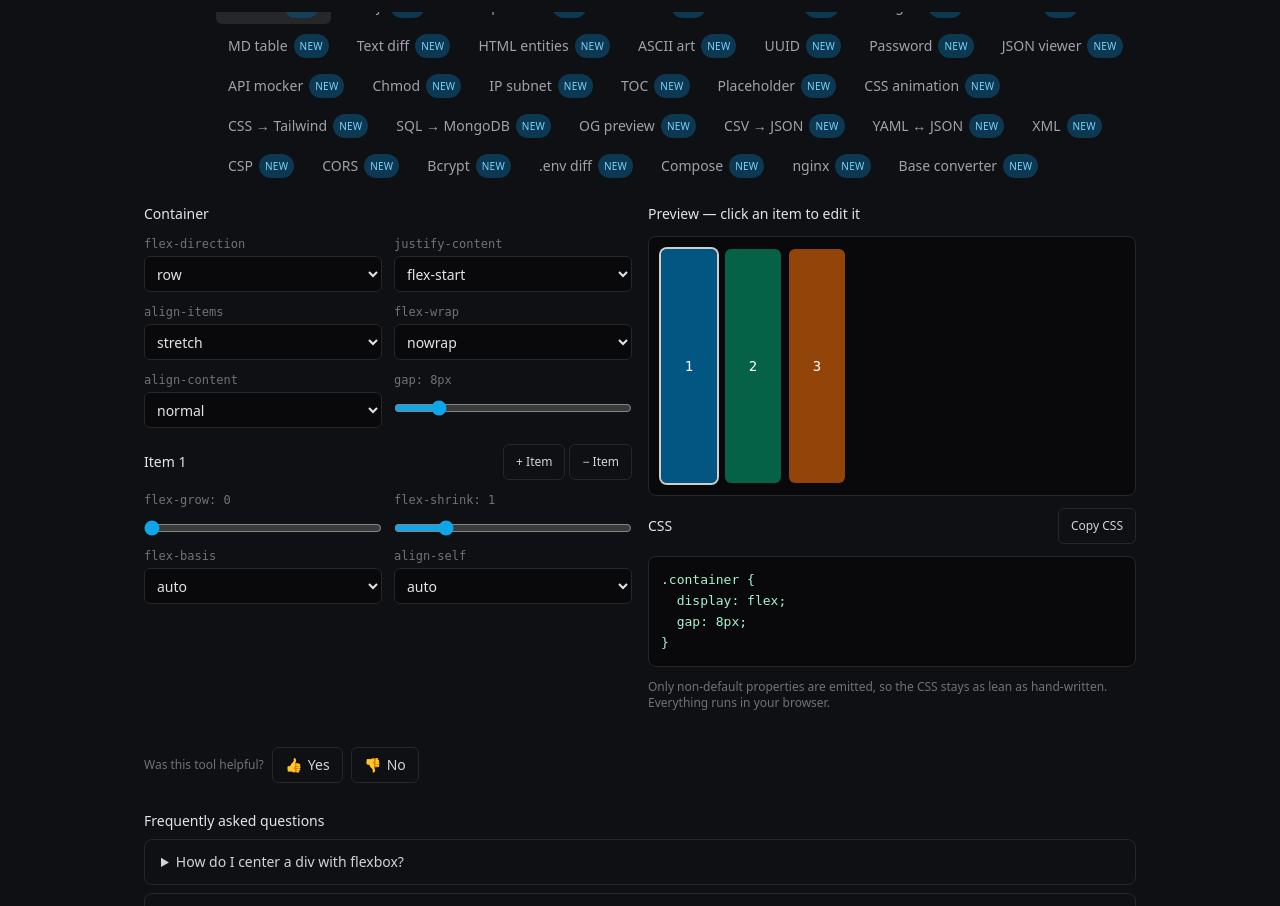
FlexboxPage › adds and removes items within bounds
(page scrolled)
Click the button with test id "flex-add-item". click: x=534, y=462
box: top-left (503, 444), bottom-right (566, 480)
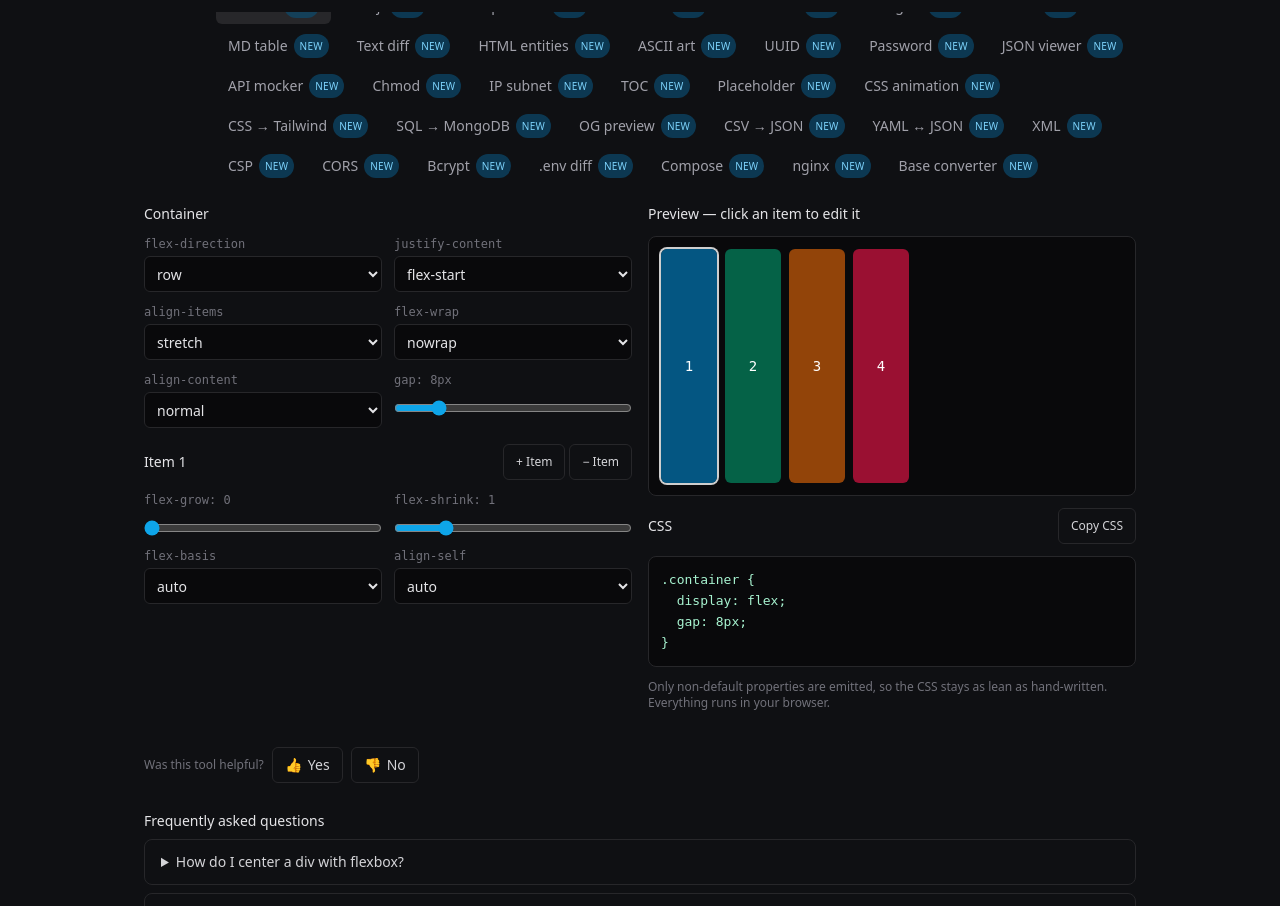
Check: the button with test id "flex-item-3" is shown, box top-left (853, 249), bottom-right (909, 483)
Click the button with test id "flex-remove-item". click: x=601, y=462
box: top-left (570, 444), bottom-right (632, 480)
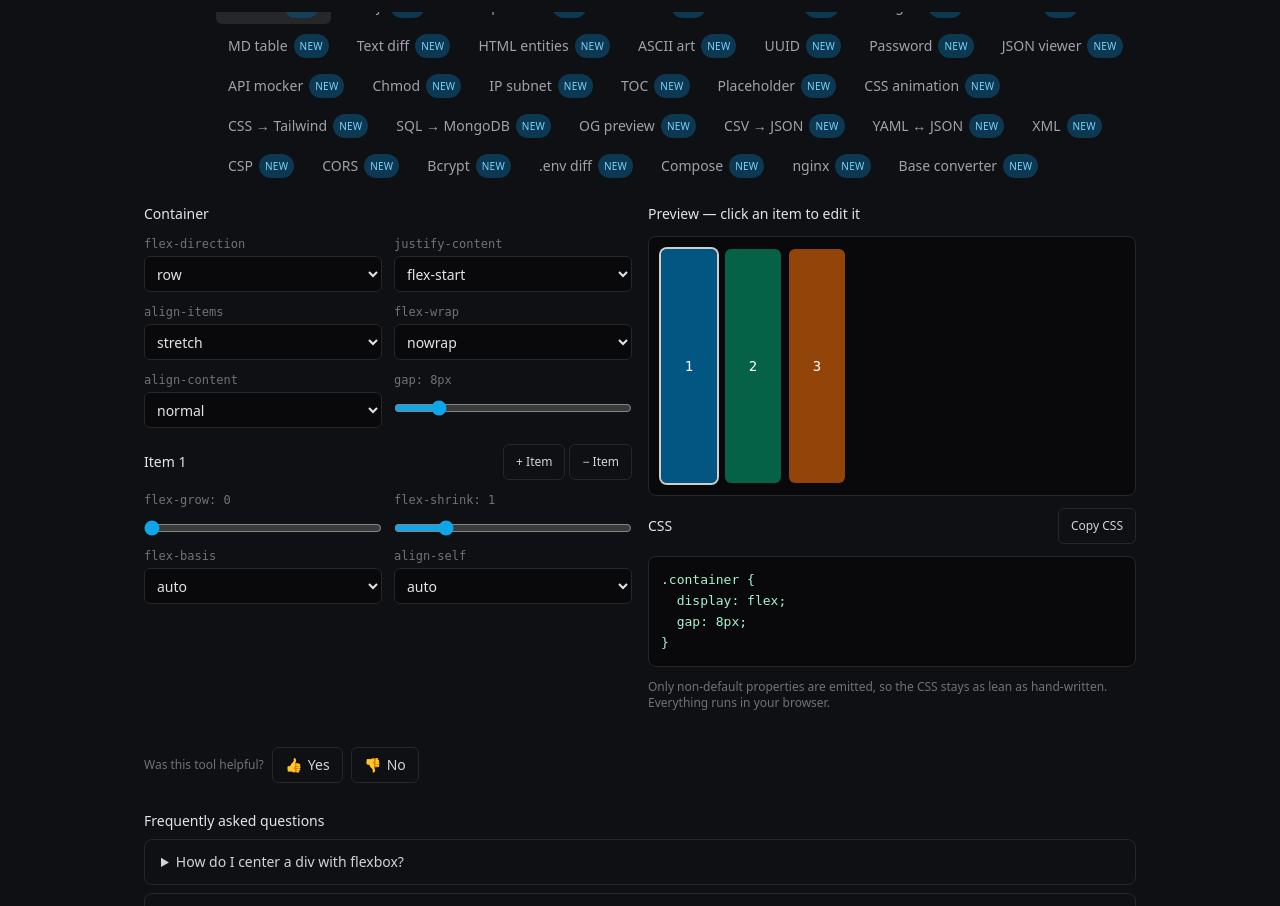
Click the button with test id "flex-remove-item". click: x=601, y=462
box: top-left (570, 444), bottom-right (632, 480)
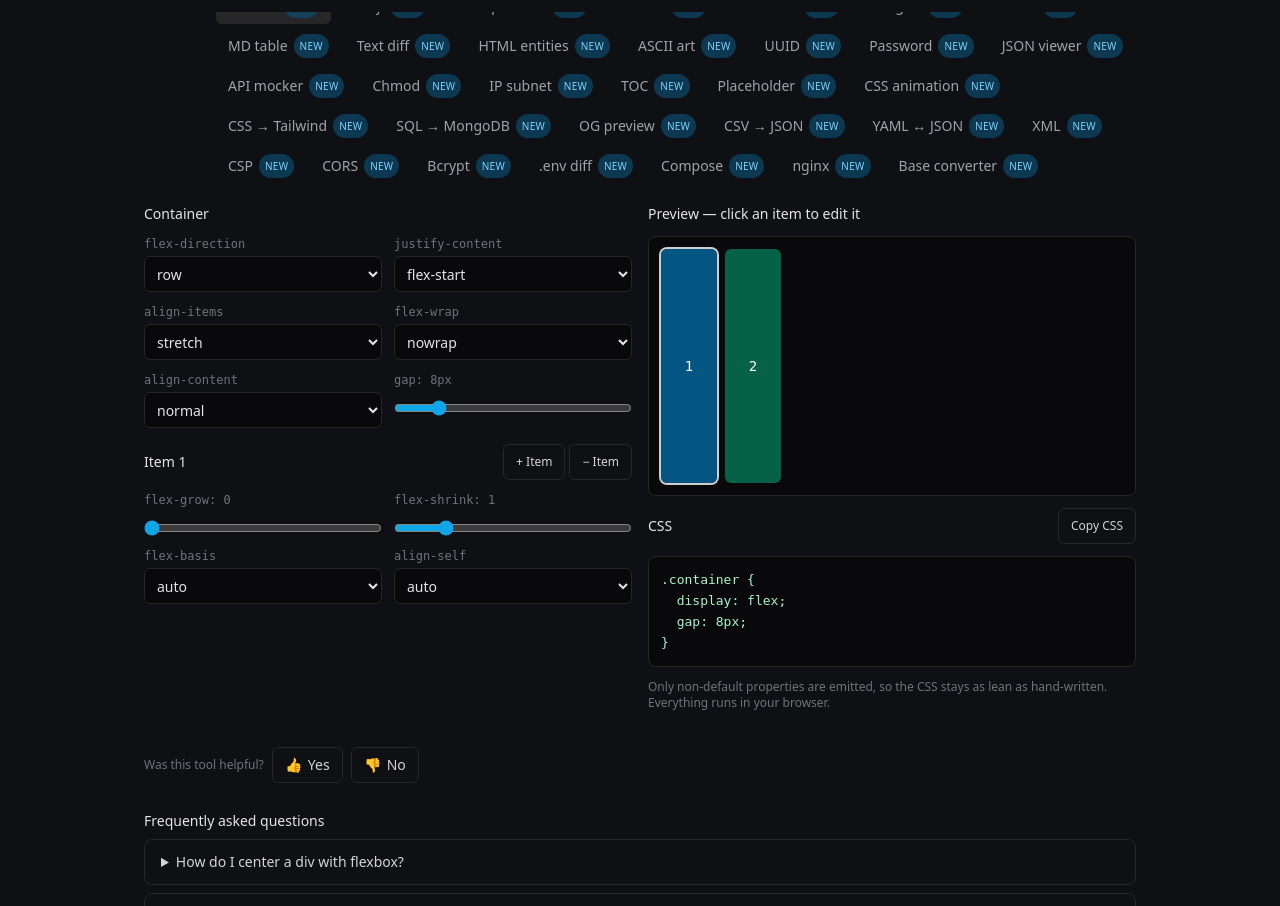
Click the button with test id "flex-remove-item". click: x=601, y=462
box: top-left (570, 444), bottom-right (632, 480)
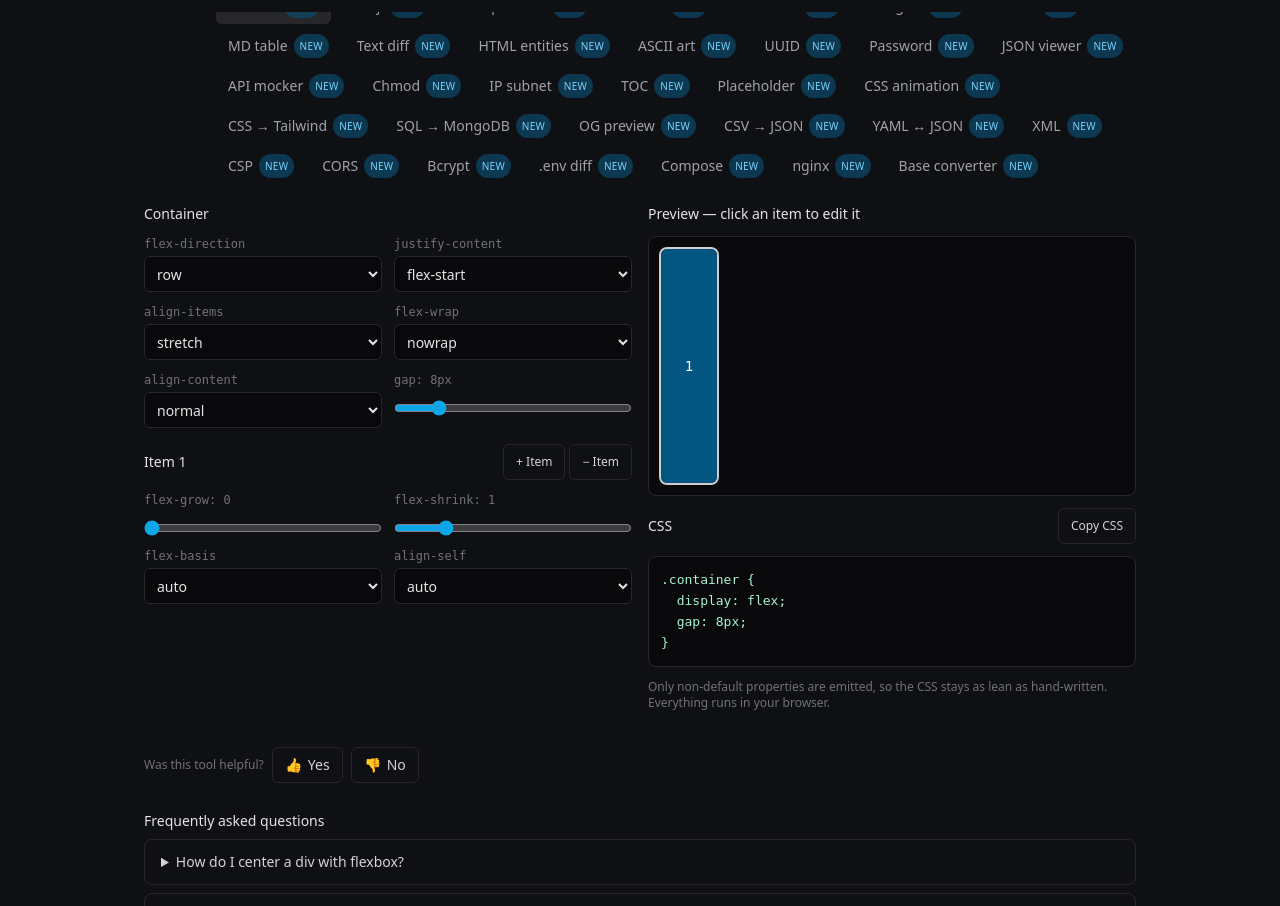
Check: the button with test id "flex-item-0" is shown, box top-left (661, 249), bottom-right (717, 483)
Check: the button with test id "flex-item-1" is gone
